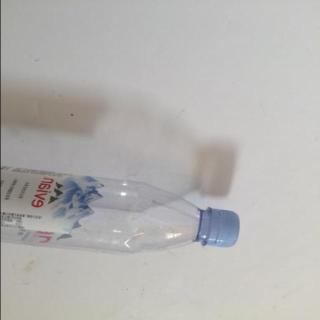Anorganik: (1, 157, 250, 261)
